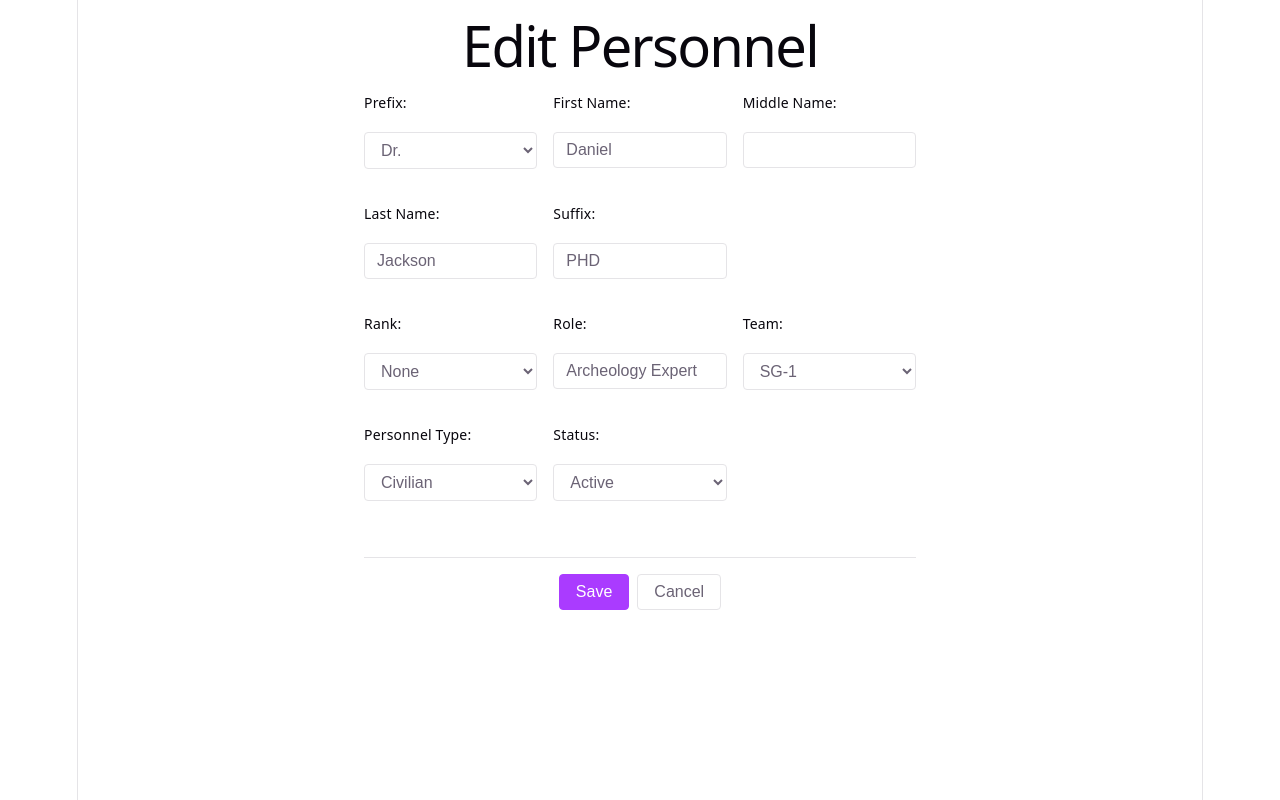
PersonnelForm › should navigate back to personnel list when cancelling
Click the button "Cancel". click: (679, 592)
box: top-left (637, 574), bottom-right (721, 610)
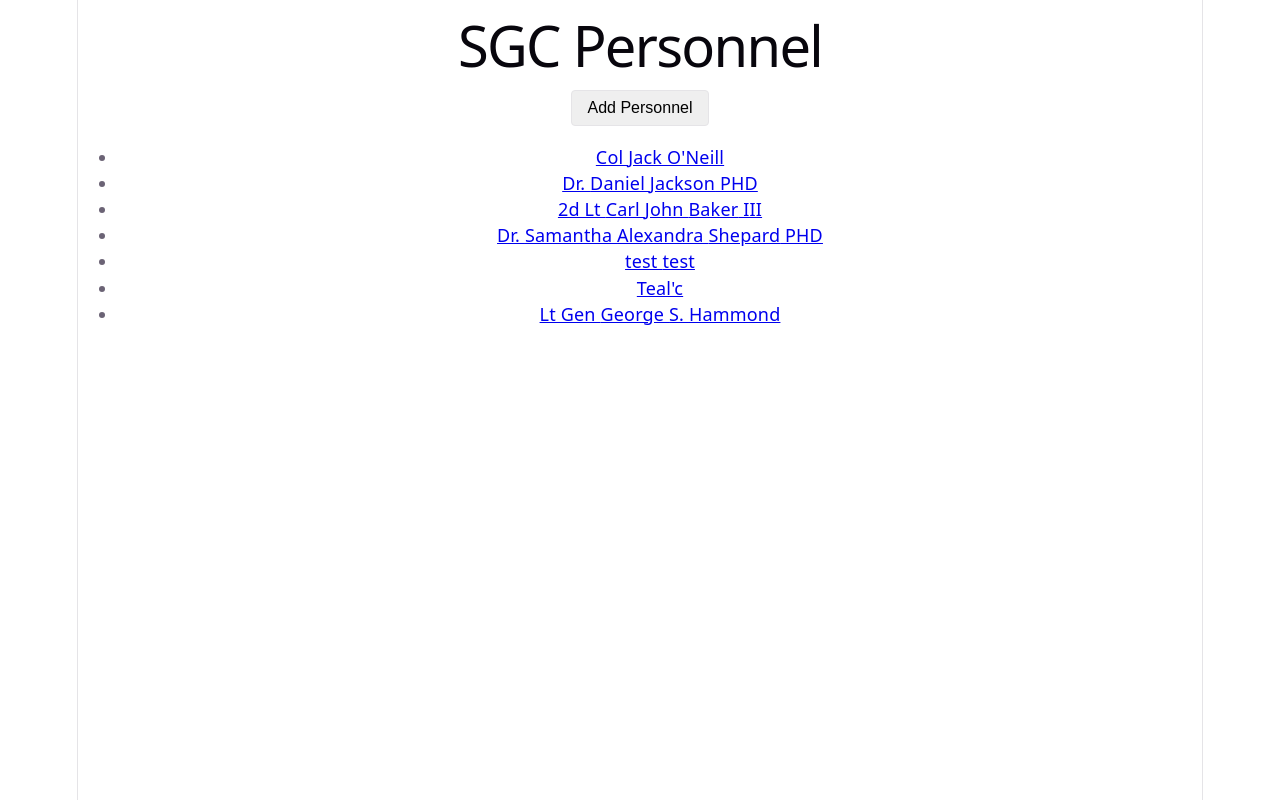
expect the heading "SGC Personnel" is shown: met, box top-left (458, 7), bottom-right (822, 83)
